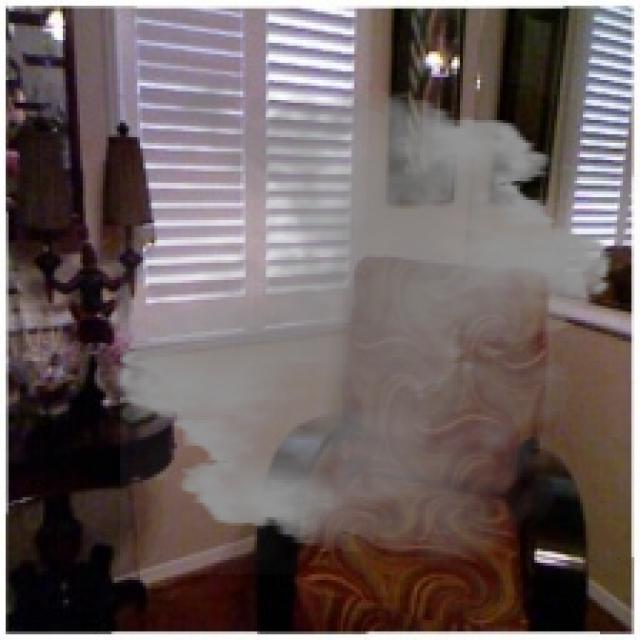Smoke: (100, 57, 629, 574)
